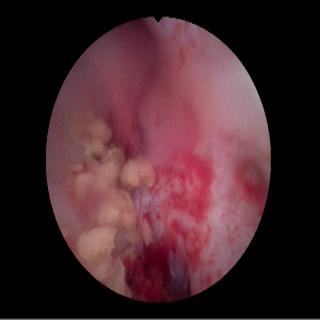stone: (75, 122, 151, 292), (123, 160, 153, 186)
tissue: (49, 20, 266, 295)
